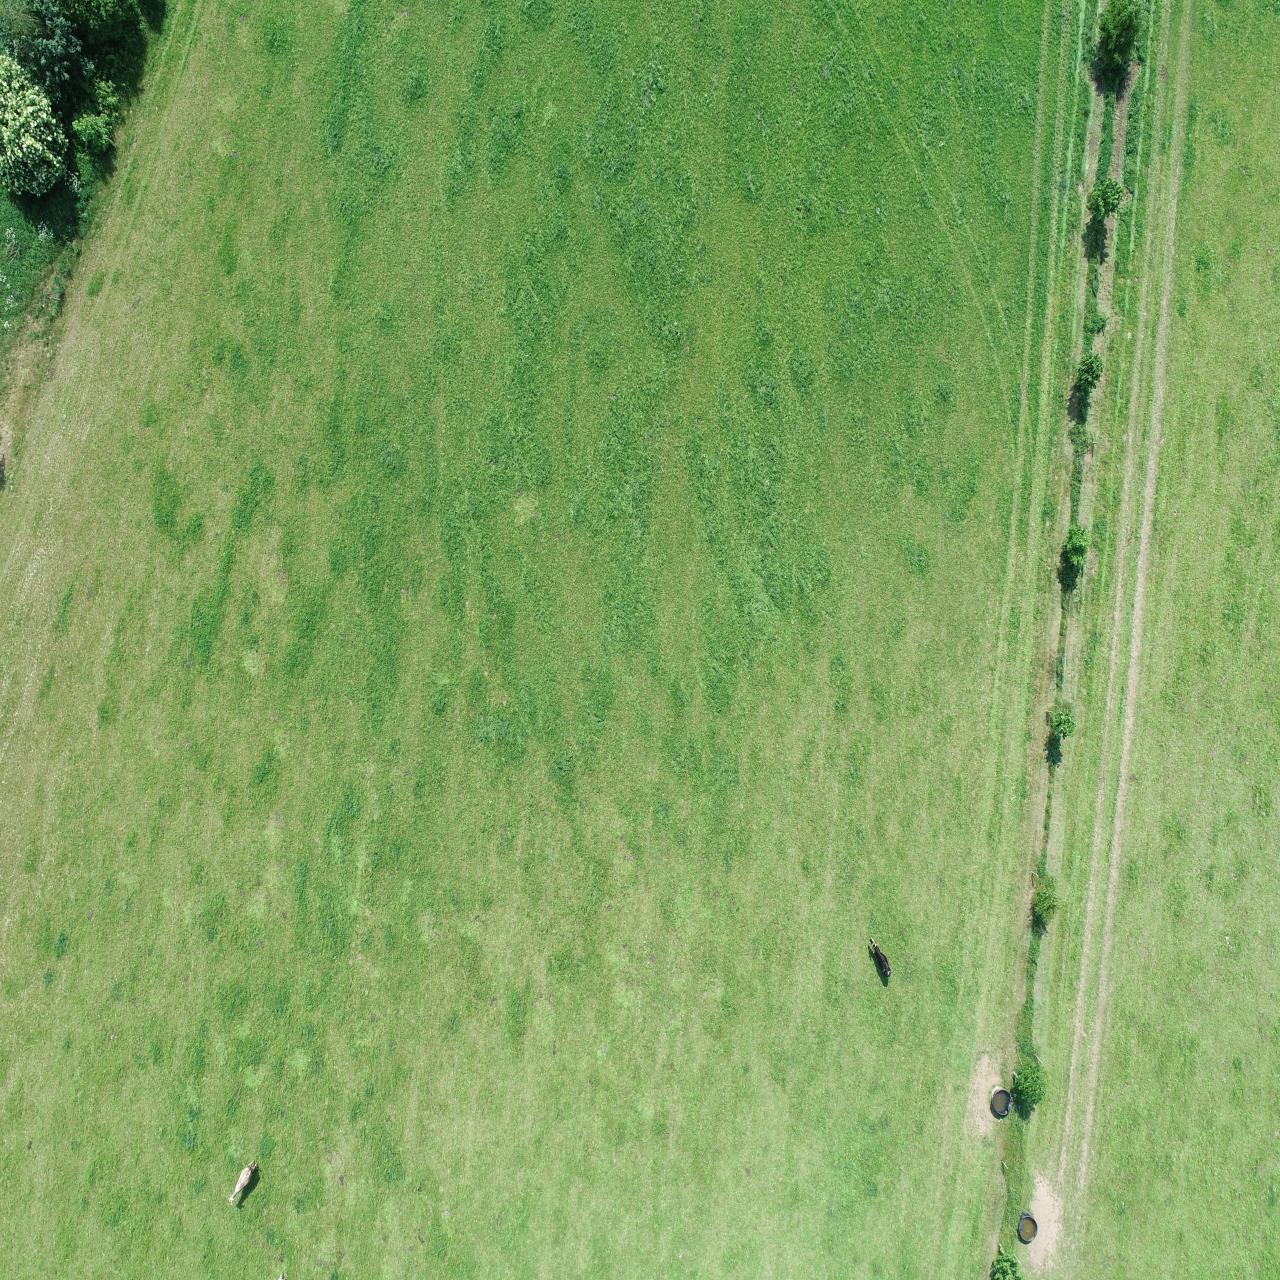cow: (226, 1157, 261, 1208), (865, 933, 894, 983)
